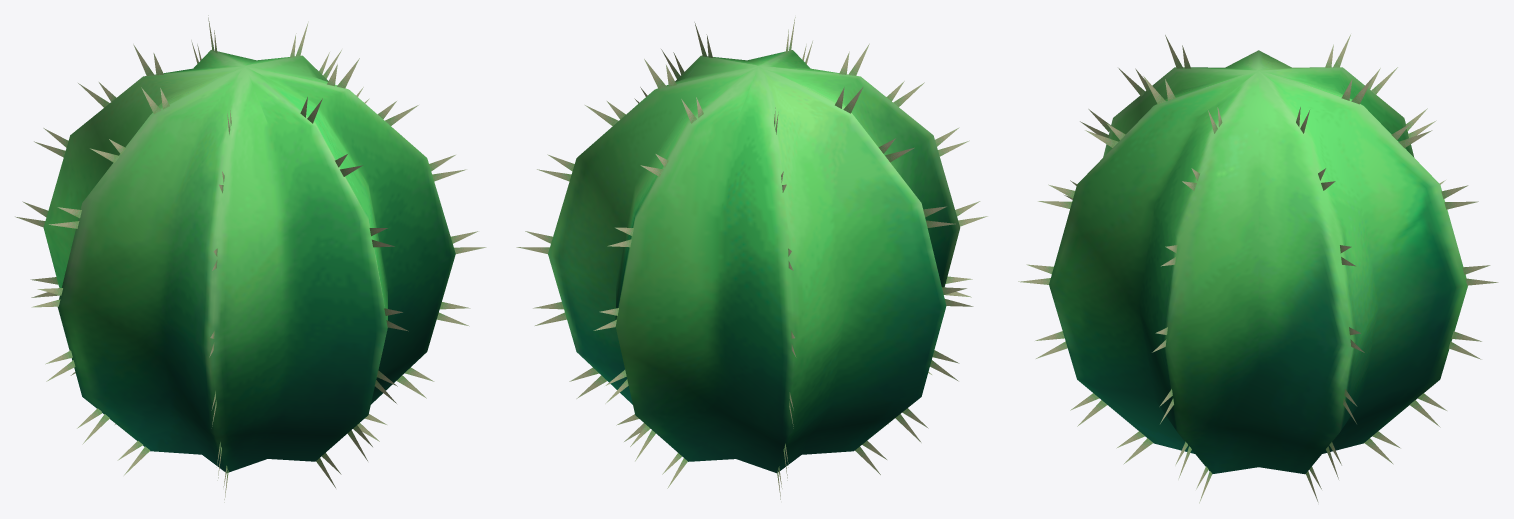
The model's file is cj_xianrenzhang8.fbx.
3 renders of one model, left to right at view 1: azimuth 30°, elevation 25°; view 2: azimuth 150°, elevation 25°; view 3: azimuth 270°, elevation 25°, orthographic.
Visible parts, largest first — view 1: cj_xianrenzhang8; view 2: cj_xianrenzhang8; view 3: cj_xianrenzhang8.
Part boxes in pixels (x1=…): cj_xianrenzhang8: x1=15, y1=15, x2=486, y2=502; cj_xianrenzhang8: x1=516, y1=17, x2=987, y2=499; cj_xianrenzhang8: x1=1018, y1=34, x2=1498, y2=503.
Size of the model in its own units: 711 by 659 by 729.
